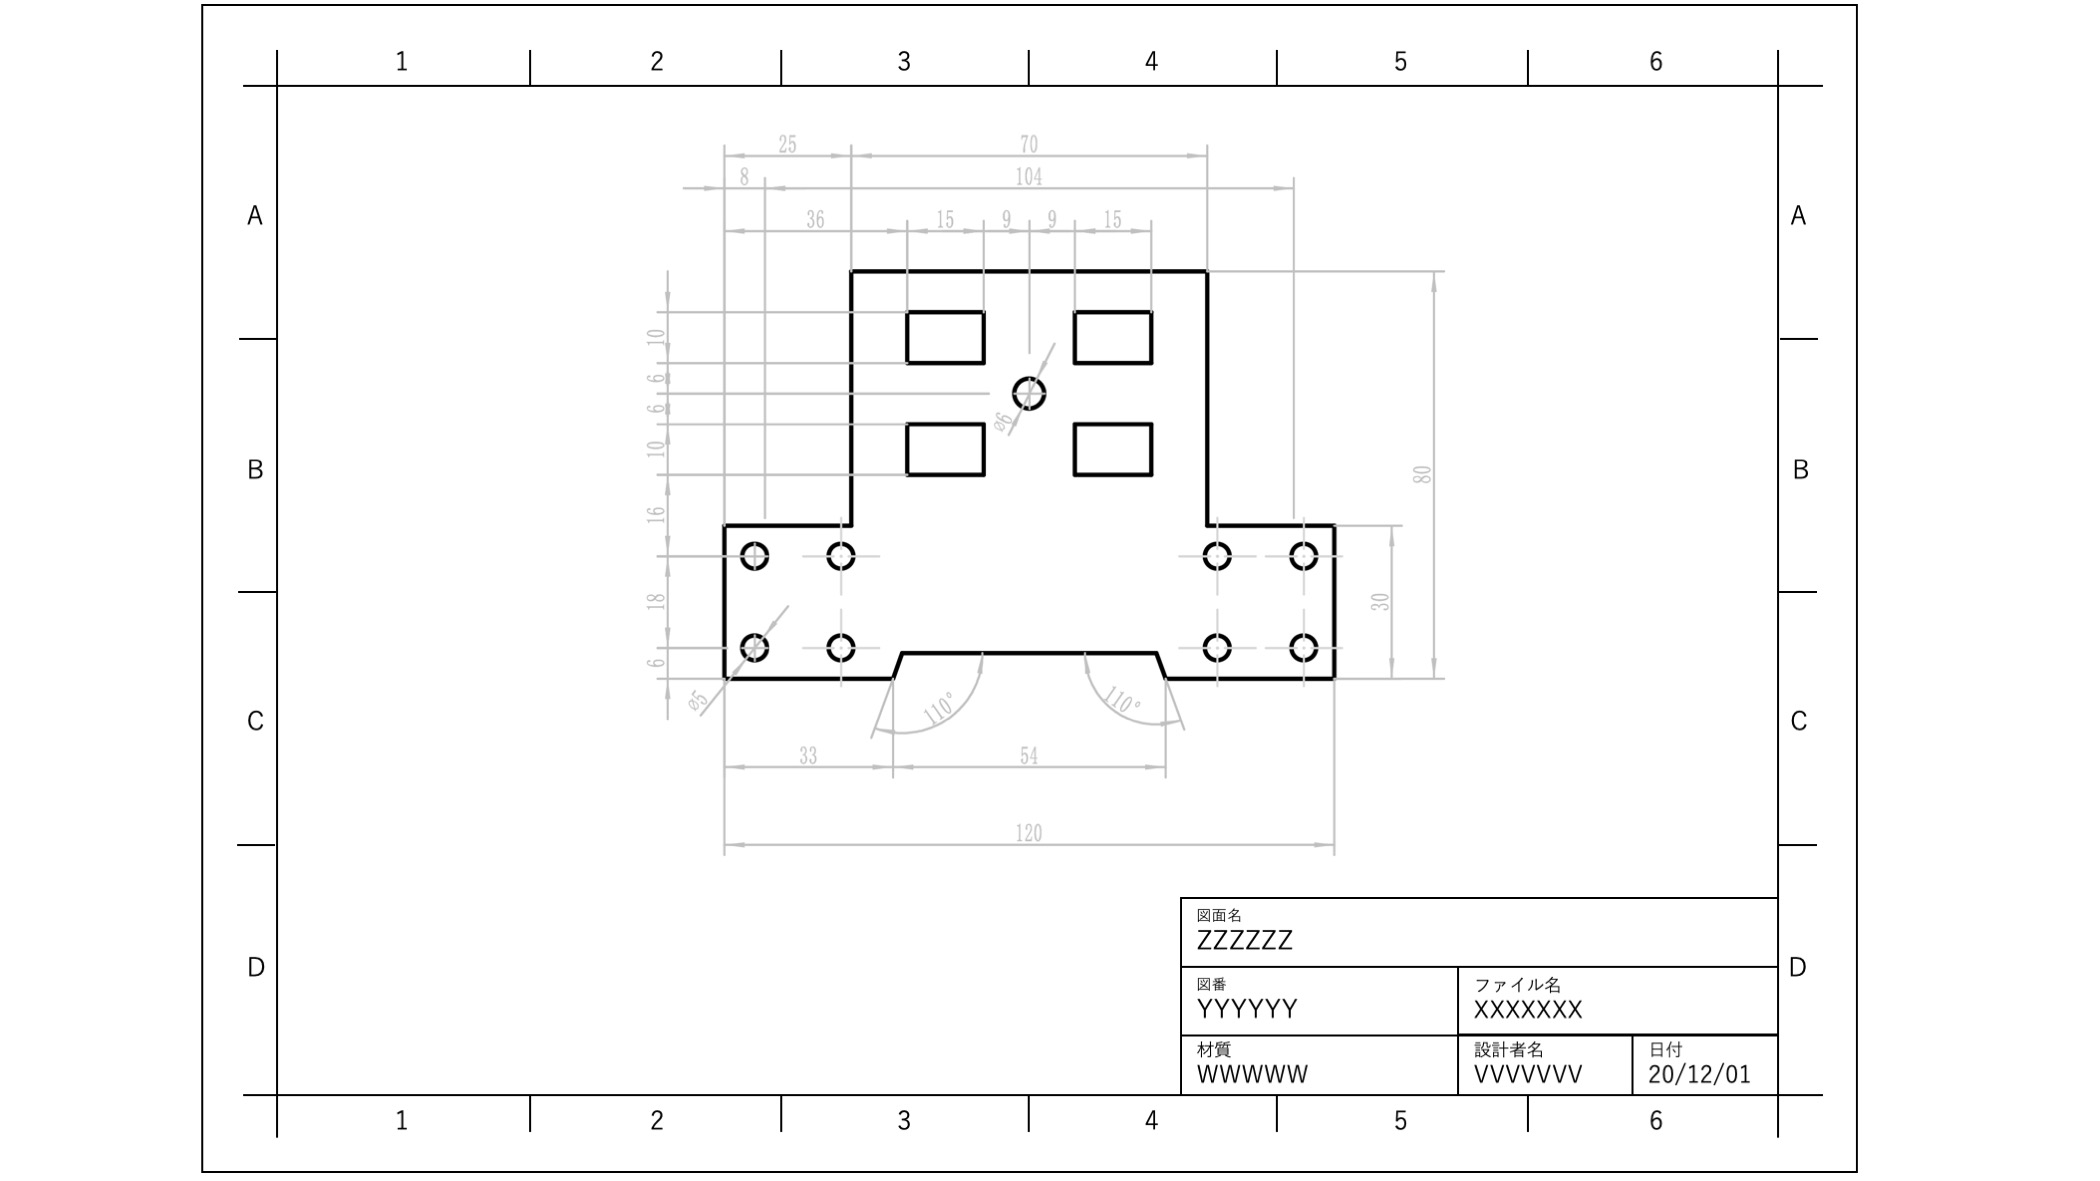circle: (1007, 372, 1051, 410), (733, 627, 773, 668), (1196, 629, 1237, 668), (822, 629, 861, 668), (734, 536, 770, 575), (1285, 629, 1321, 668), (818, 539, 860, 572), (1199, 536, 1236, 572), (1285, 542, 1325, 572)
rectangle: (896, 303, 994, 376), (1067, 303, 1162, 371), (1064, 414, 1160, 482), (901, 414, 992, 482)
